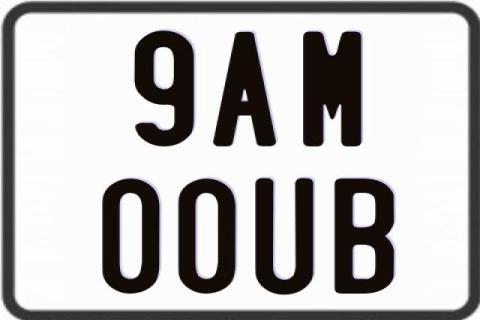0: (99, 177, 163, 296), (132, 31, 194, 149), (176, 177, 236, 293)
A: (211, 30, 278, 144)
B: (332, 178, 397, 296)
M: (302, 30, 360, 148)
U: (253, 177, 316, 297)
